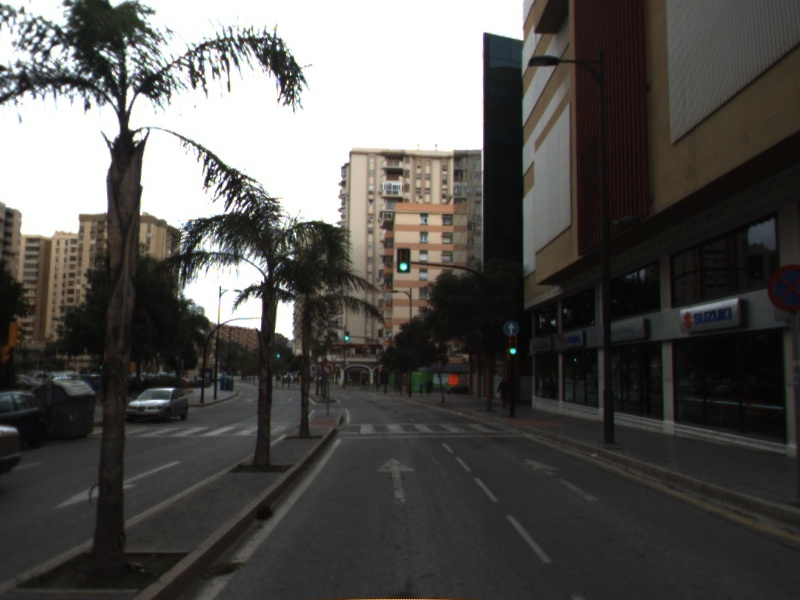STRAIGHT: (521, 456, 603, 503), (374, 456, 418, 507)
